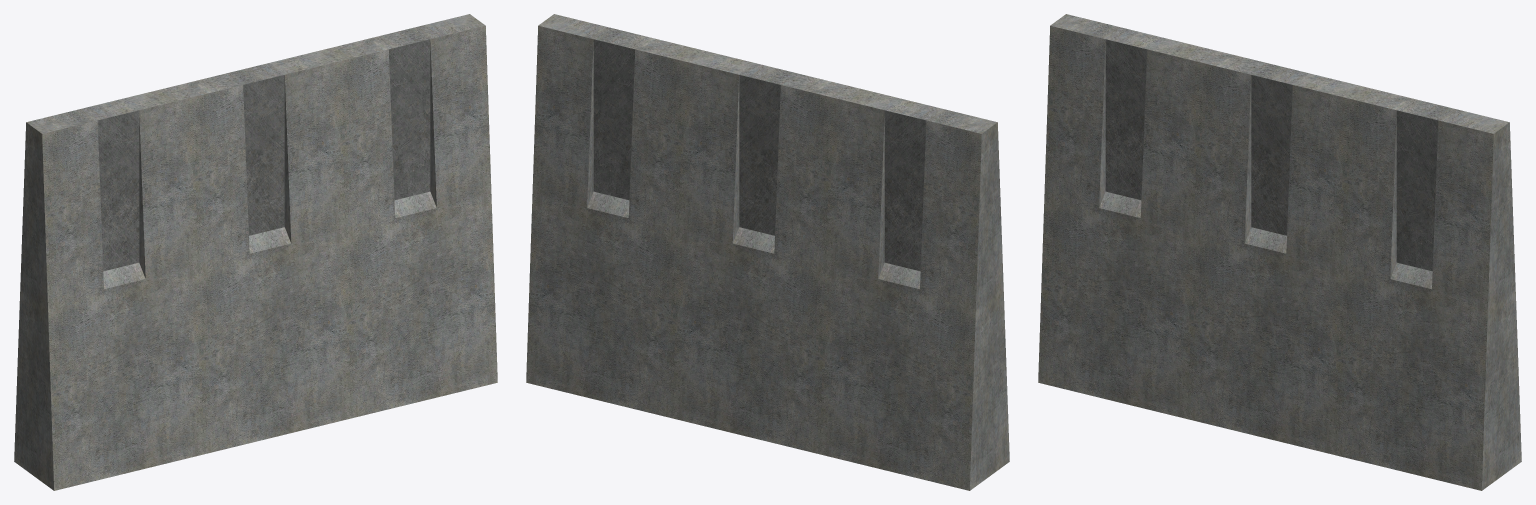
File: mun_all_military_wall_weak_impl_s01_l1.fbx
3 views of the same model, side by side, from view 1: azimuth 30°, elevation 25°; view 2: azimuth 150°, elevation 25°; view 3: azimuth 330°, elevation 25° (orthographic).
Parts seen in each view (by area): view 1: mesh_node; view 2: mesh_node; view 3: mesh_node.
Boxes of the visible parts, <box> form: mesh_node: <box>14,14,497,490</box>; mesh_node: <box>526,14,1009,490</box>; mesh_node: <box>1038,14,1521,490</box>.
Size of the model in its own units: 8 by 6 by 1.25.
